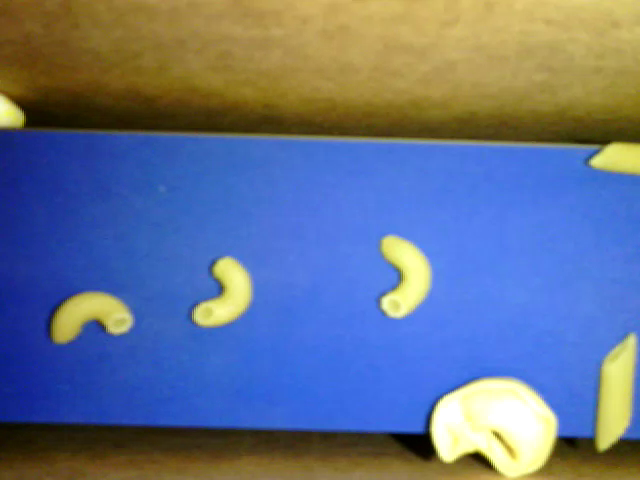elbow: (49, 290, 135, 344), (379, 234, 433, 317), (191, 256, 252, 329)
penne: (594, 332, 637, 450), (589, 141, 639, 173)
tortellini: (429, 374, 558, 475)
